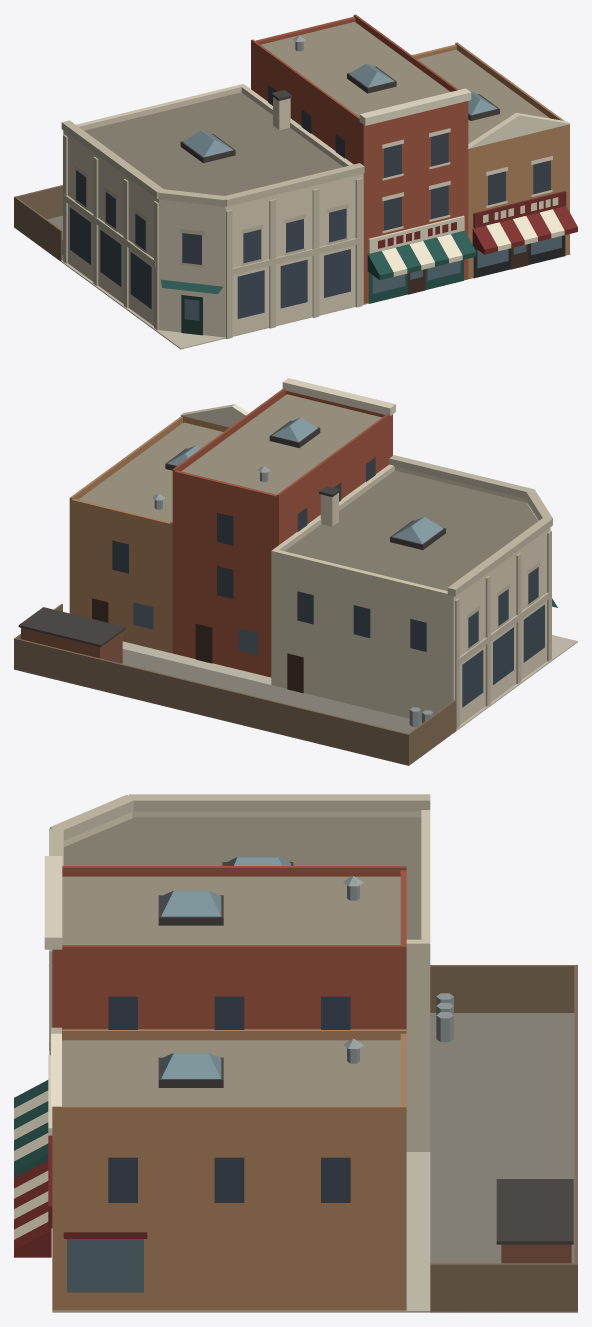
The model's file is highstreet_wm.glb.
The picture shows the model from 3 angles, top to bottom: view 1: azimuth 30°, elevation 25°; view 2: azimuth 150°, elevation 25°; view 3: azimuth 270°, elevation 25°; orthographic projection. The views are drawn at different scales.
Visible parts, largest first — view 1: highstreet_wm; view 2: highstreet_wm; view 3: highstreet_wm.
Part boxes in pixels (box(x1,y1,x2,y2)): highstreet_wm: box(14, 14, 577, 349); highstreet_wm: box(14, 378, 577, 765); highstreet_wm: box(14, 794, 577, 1312).
Size of the model in its own units: 18 by 8.49 by 14.33.
